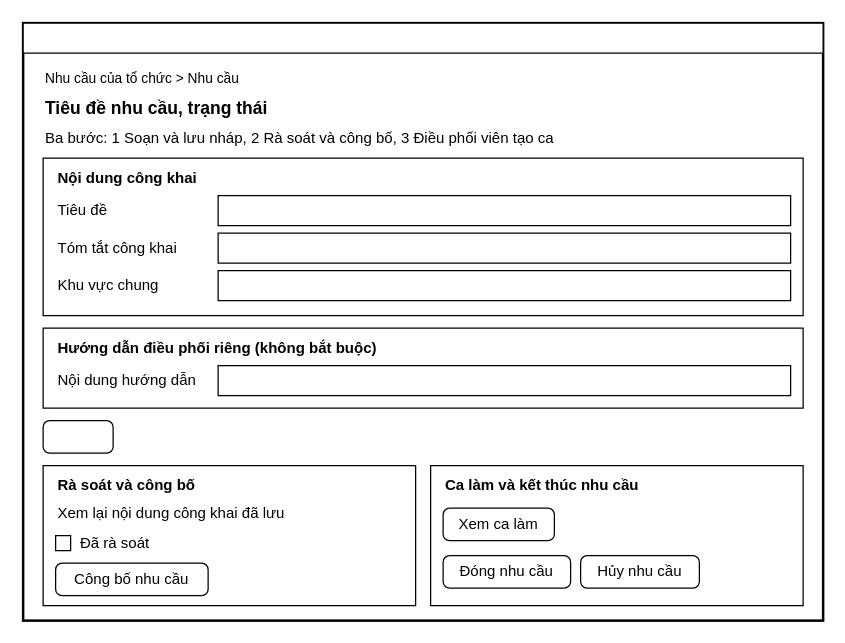
Some shapes in this 845 by 643 pixel diagram are drawn without their labels. Here are the shapes that lost their labels. From the top down, the centre of each, then its label:
At [422,37]: "Đầu trang và thanh mục (Hình 6.2)".
At [77,436]: "Lưu".
